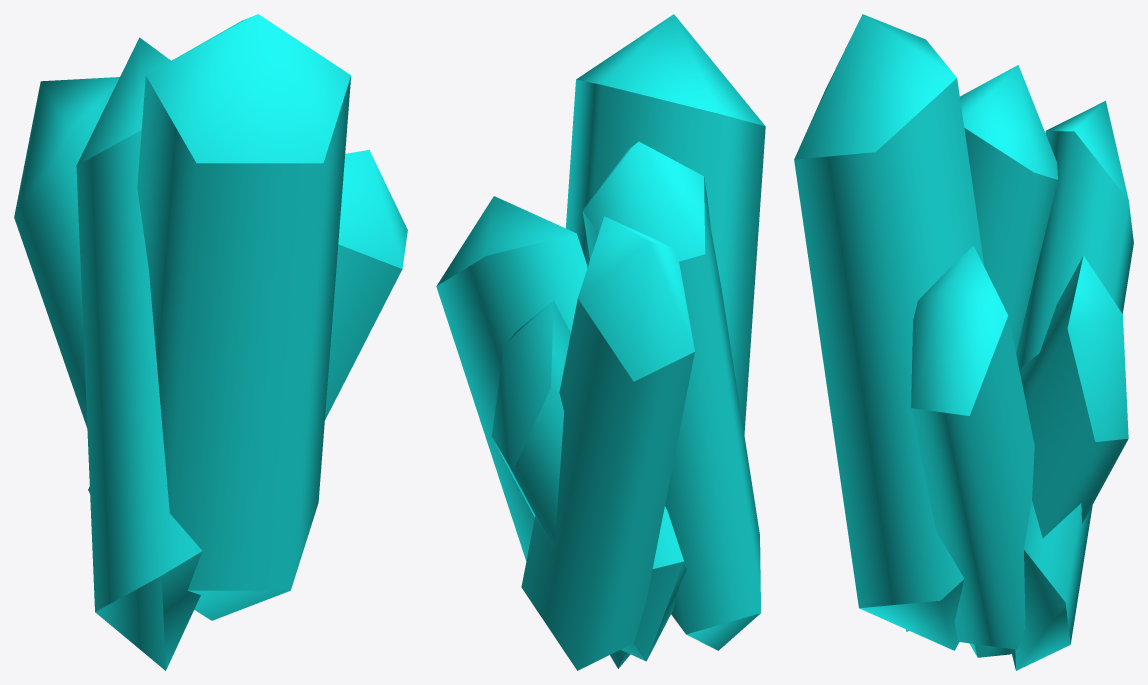
The model's file is Crystal 002.FBX.
3 renders of one model, left to right at view 1: azimuth 30°, elevation 25°; view 2: azimuth 150°, elevation 25°; view 3: azimuth 270°, elevation 25°, orthographic. The views are drawn at different scales.
Parts seen in each view (by area): view 1: Crystal 001, Crystal 003, Crystal 005, Crystal 004; view 2: Crystal 005, Crystal 003, Crystal 001, Crystal 004, Crystal 006; view 3: Crystal 001, Crystal 004, Crystal 005, Crystal 006, Crystal 003.
Part boxes in pixels (<box>): Crystal 001: <box>137,14,351,620</box>; Crystal 003: <box>76,37,202,670</box>; Crystal 005: <box>14,77,119,427</box>; Crystal 004: <box>88,149,407,493</box>; Crystal 005: <box>521,216,694,670</box>; Crystal 003: <box>582,141,760,650</box>; Crystal 001: <box>566,14,765,434</box>; Crystal 004: <box>436,196,686,661</box>; Crystal 006: <box>491,300,630,668</box>; Crystal 001: <box>794,14,984,650</box>; Crystal 004: <box>911,246,1034,649</box>; Crystal 005: <box>1010,100,1133,670</box>; Crystal 006: <box>969,255,1128,657</box>; Crystal 003: <box>906,65,1057,631</box>.
Size of the model in its own units: 0.2656 by 0.4941 by 0.2333.
